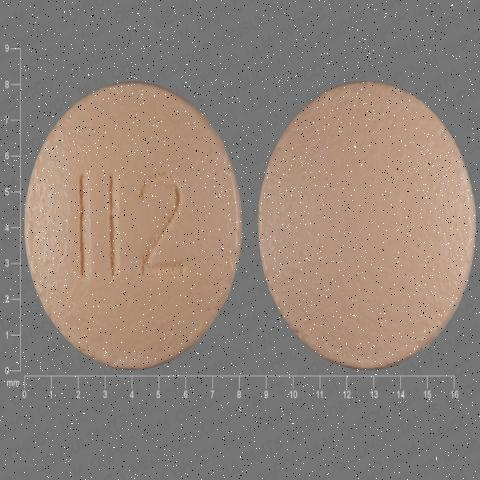hands: (18, 53, 250, 394), (256, 54, 479, 394)
